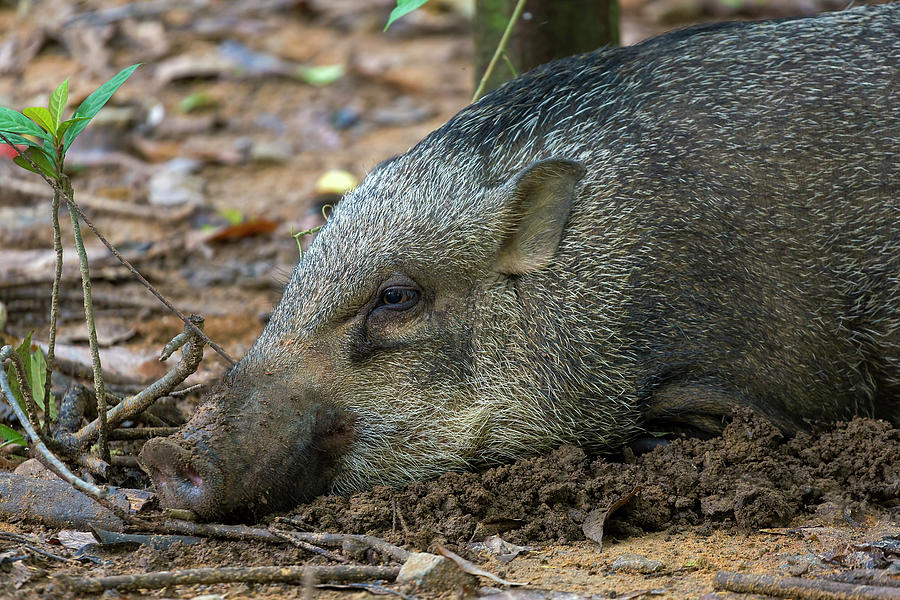boar: (132, 4, 893, 530)
